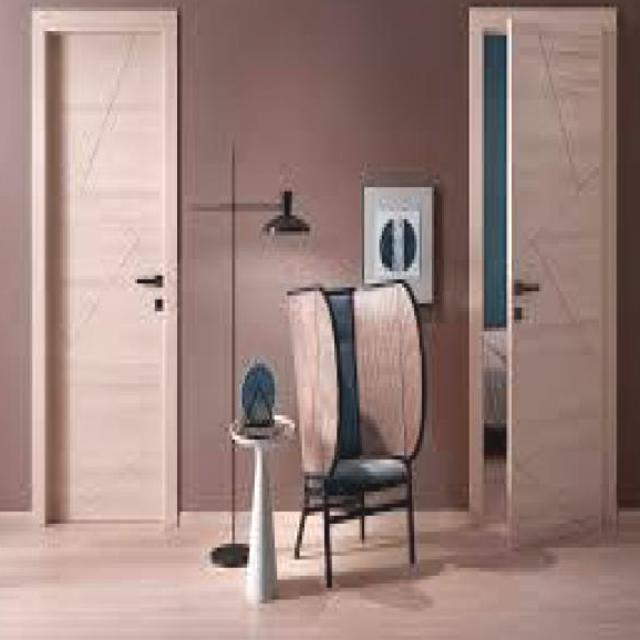door: (35, 9, 178, 529), (504, 9, 616, 538)
